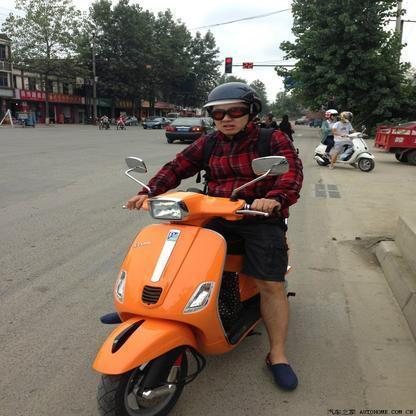target: (87, 79, 301, 410), (312, 107, 376, 174)
